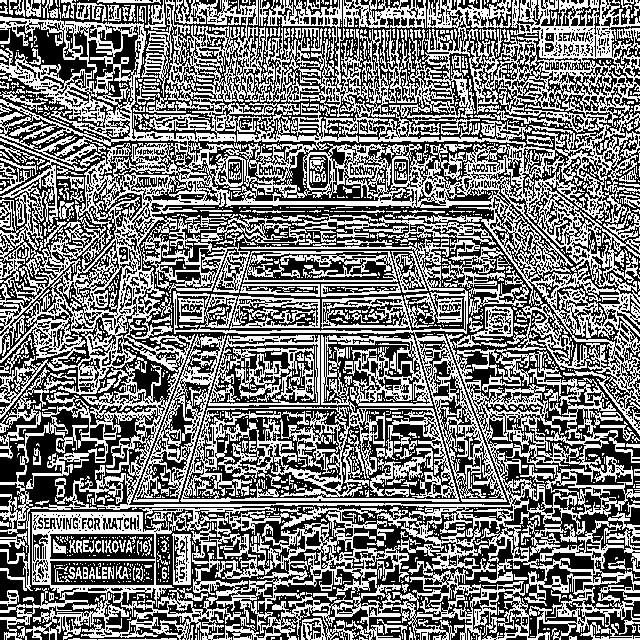left side: (130, 249, 251, 503), (390, 249, 509, 503)
player: (338, 384, 368, 494), (229, 218, 260, 255)
